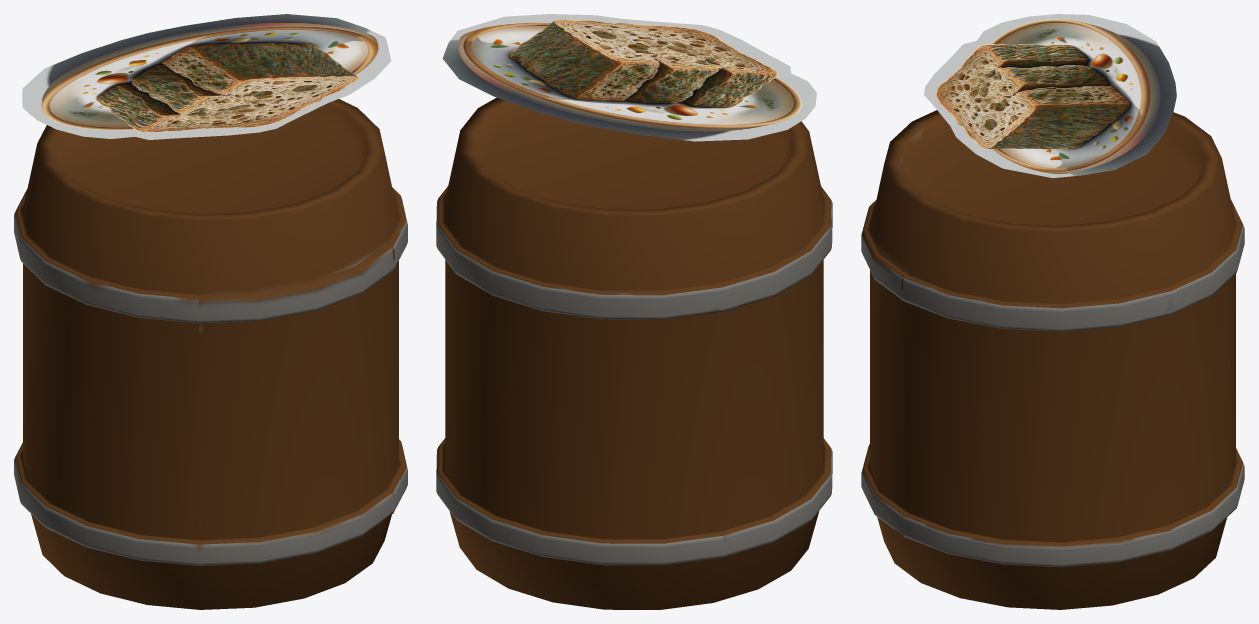
Rendered from Ingredientes_7_MaderadeAtaud.fbx.
The picture shows the model from 3 angles, left to right: view 1: azimuth 30°, elevation 25°; view 2: azimuth 150°, elevation 25°; view 3: azimuth 270°, elevation 25°; orthographic projection. The views are drawn at different scales.
Parts seen in each view (by area): view 1: Barril_mesh, MK_Ingredientes_7_MaderadeAtaud; view 2: Barril_mesh, MK_Ingredientes_7_MaderadeAtaud; view 3: Barril_mesh, MK_Ingredientes_7_MaderadeAtaud.
Boxes of the visible parts, x1,y1,x2,y2 form: Barril_mesh: [14, 99, 407, 609]; MK_Ingredientes_7_MaderadeAtaud: [22, 14, 391, 139]; Barril_mesh: [436, 97, 832, 609]; MK_Ingredientes_7_MaderadeAtaud: [442, 14, 816, 141]; Barril_mesh: [861, 110, 1244, 609]; MK_Ingredientes_7_MaderadeAtaud: [924, 14, 1176, 178].
Size of the model in its own units: 1.87 by 2.35 by 1.84.
Materials: 2 (2 with a texture image).
